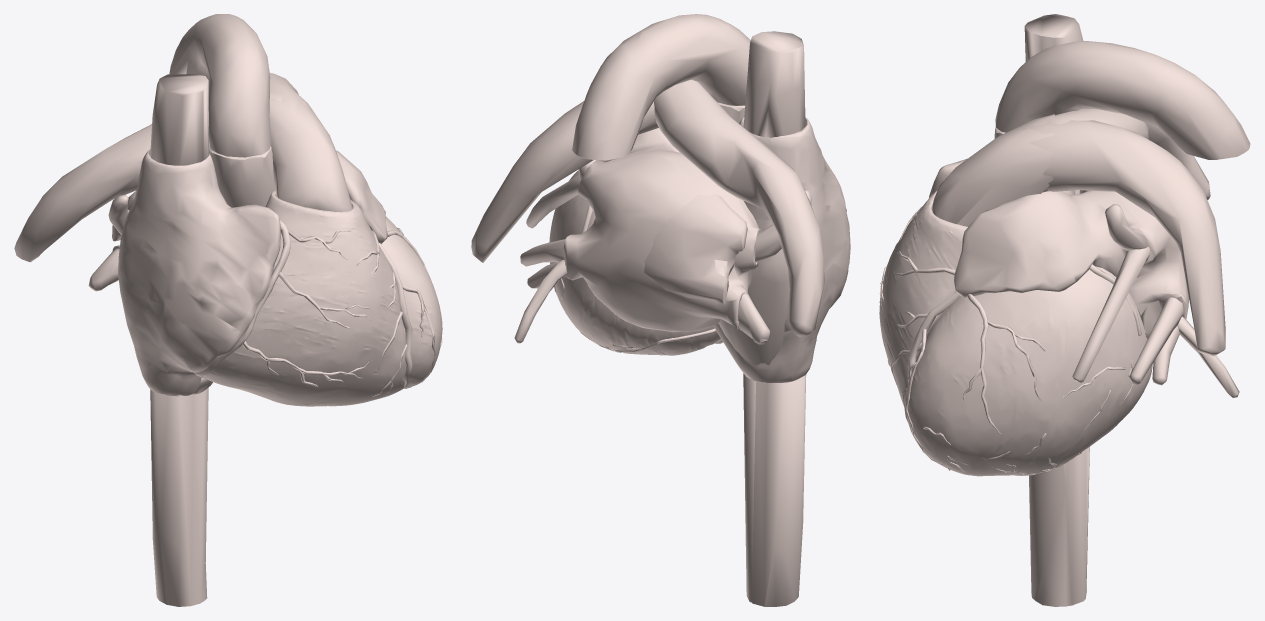
The model's file is heart.glb.
3 renders of one model, left to right at view 1: azimuth 30°, elevation 25°; view 2: azimuth 150°, elevation 25°; view 3: azimuth 270°, elevation 25°, orthographic. The views are drawn at different scales.
Visible parts, largest first — view 1: Ventricular myocardium, Right atrial wall, Vena cava, Pulmonary artery, Aorta, Coronary arteries, Left atrial wall, Pulmonary vein; view 2: Pulmonary artery, Left atrial wall, Vena cava, Aorta, Right atrial wall, Left atrium, Ventricular myocardium, Pulmonary vein, Right atrium, Coronary arteries; view 3: Ventricular myocardium, Pulmonary artery, Left atrial wall, Aorta, Vena cava, Pulmonary vein, Coronary arteries.
Boxes of the visible parts, left/top/right/bottom form: Ventricular myocardium: left=203, top=190, right=442, bottom=406; Right atrial wall: left=118, top=148, right=280, bottom=396; Vena cava: left=150, top=74, right=208, bottom=606; Pulmonary artery: left=14, top=73, right=352, bottom=262; Aorta: left=169, top=14, right=275, bottom=207; Coronary arteries: left=194, top=219, right=442, bottom=397; Left atrial wall: left=112, top=150, right=387, bottom=251; Pulmonary vein: left=88, top=195, right=129, bottom=291; Pulmonary artery: left=471, top=79, right=824, bottom=336; Left atrial wall: left=563, top=128, right=760, bottom=331; Vena cava: left=743, top=31, right=806, bottom=606; Aorta: left=572, top=14, right=750, bottom=160; Right atrial wall: left=714, top=117, right=850, bottom=382; Left atrium: left=644, top=193, right=747, bottom=304; Ventricular myocardium: left=549, top=170, right=721, bottom=355; Pulmonary vein: left=514, top=160, right=811, bottom=344; Right atrium: left=719, top=218, right=789, bottom=365; Coronary arteries: left=554, top=204, right=723, bottom=352; Ventricular myocardium: left=879, top=190, right=1152, bottom=476; Pulmonary artery: left=932, top=108, right=1225, bottom=356; Left atrial wall: left=954, top=190, right=1189, bottom=338; Aorta: left=994, top=41, right=1250, bottom=195; Vena cava: left=1024, top=14, right=1089, bottom=606; Pulmonary vein: left=1072, top=204, right=1239, bottom=397; Coronary arteries: left=879, top=207, right=1141, bottom=475.
Size of the model in its own units: 0.6315 by 0.9999 by 0.5706.
